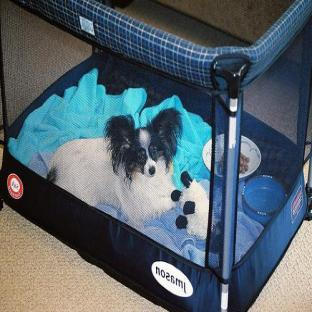Animal: (46, 108, 183, 227)
